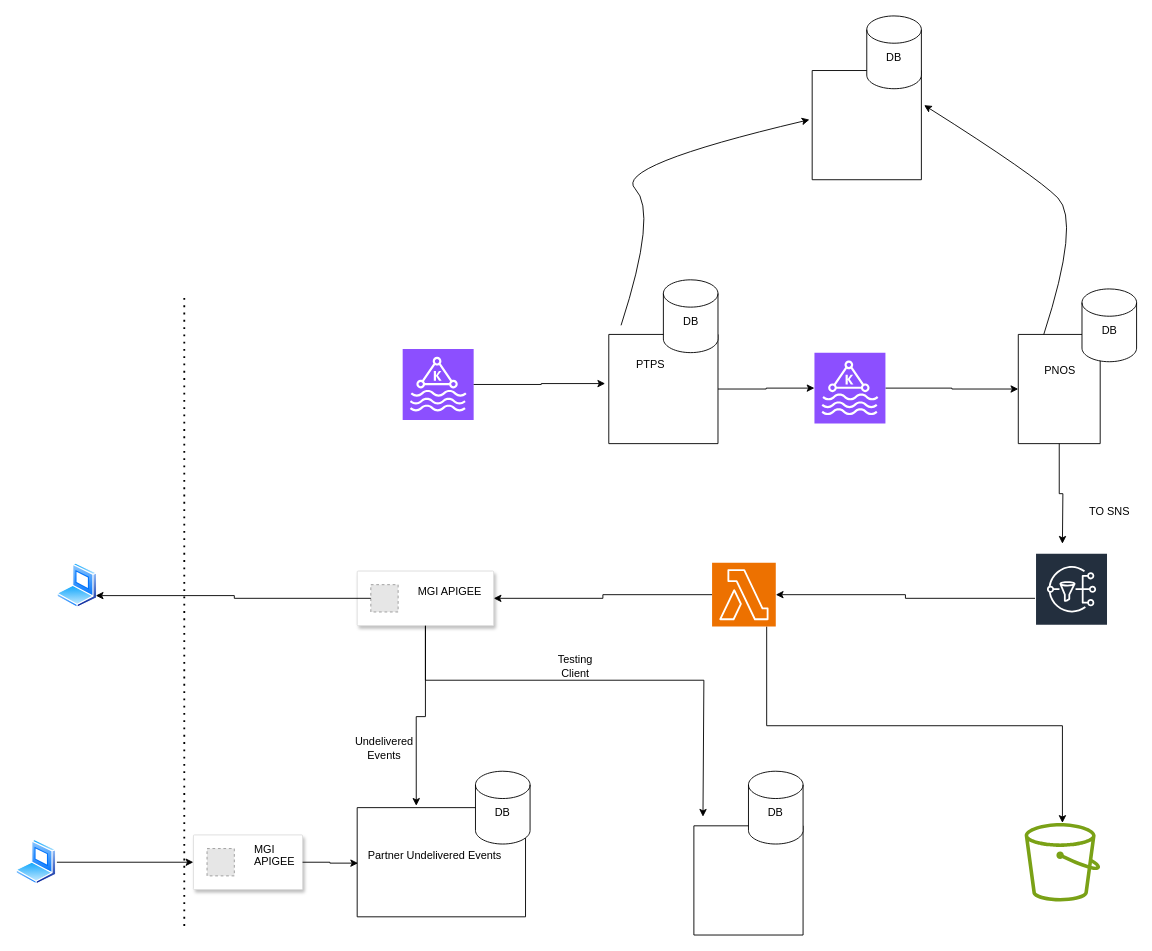
The diagram is 1152 pixels wide and 951 high, and some of its shapes have lost their labels. Grey dashed boxes stand in for pictures. The centre of each missing label's shape, as x and y in pixels:
"Amazon SNS" goes at (1071,598).
"Partner Mock Data" goes at (748,880).
"Retry Service" goes at (866,125).
